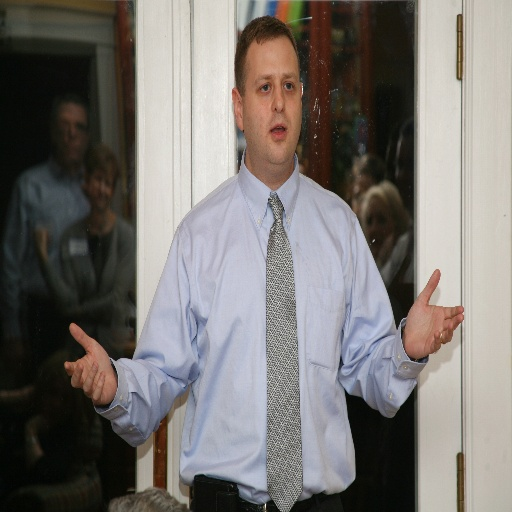hand: (404, 267, 464, 360), (63, 325, 117, 412)
